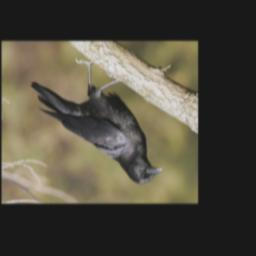Crow: (30, 55, 166, 185)
